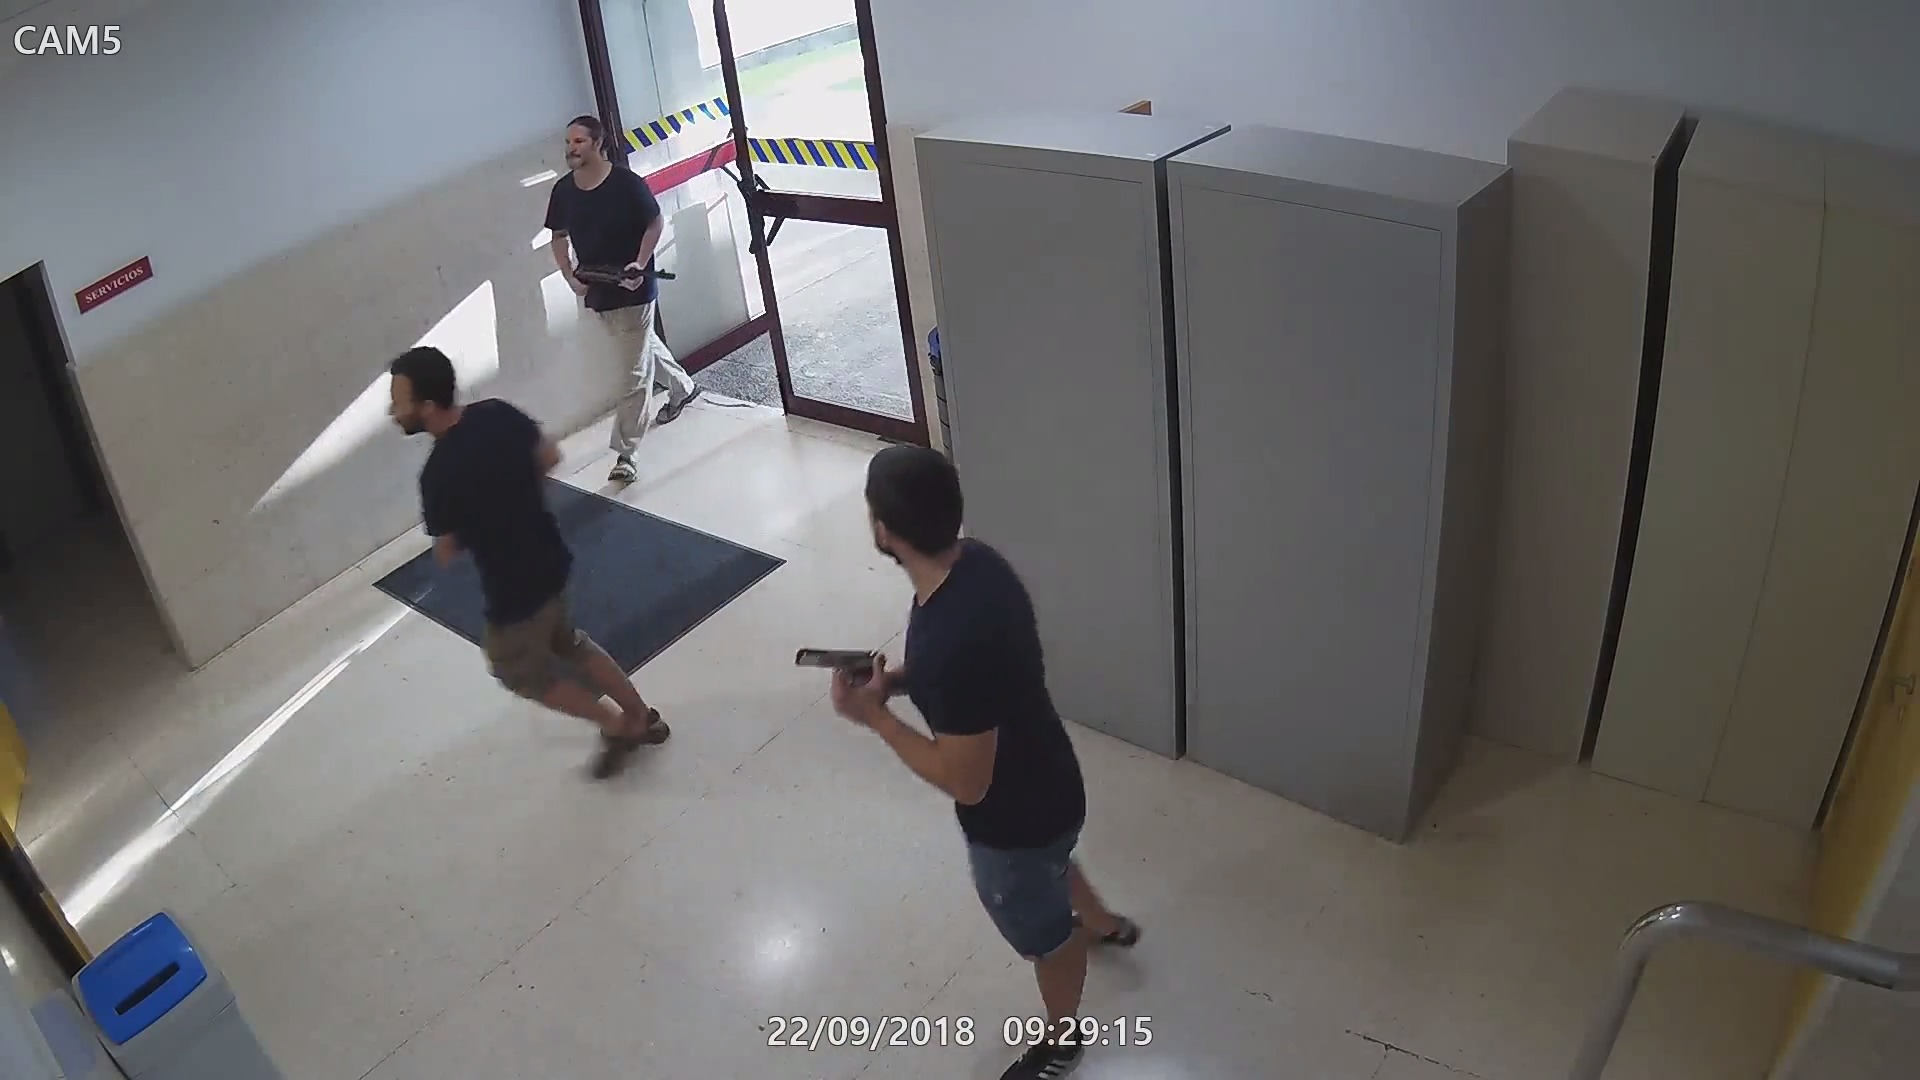pistol: (789, 638, 891, 725)
rifle: (564, 255, 678, 298)
